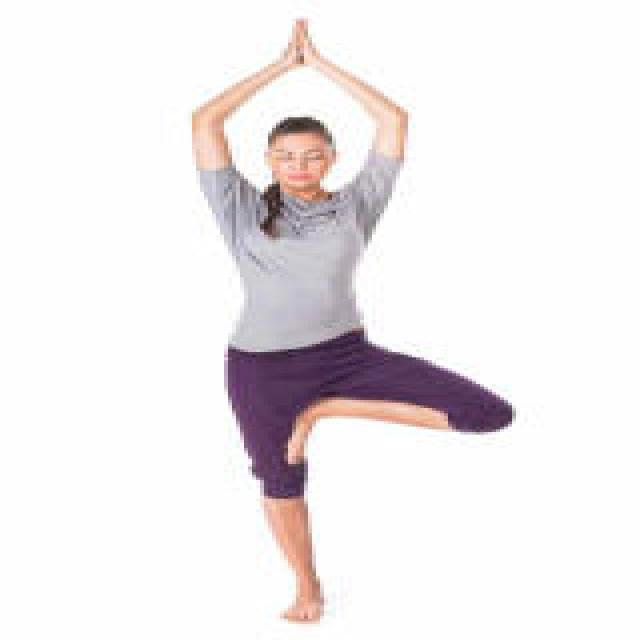yoga-pose tree: (179, 17, 526, 627)
